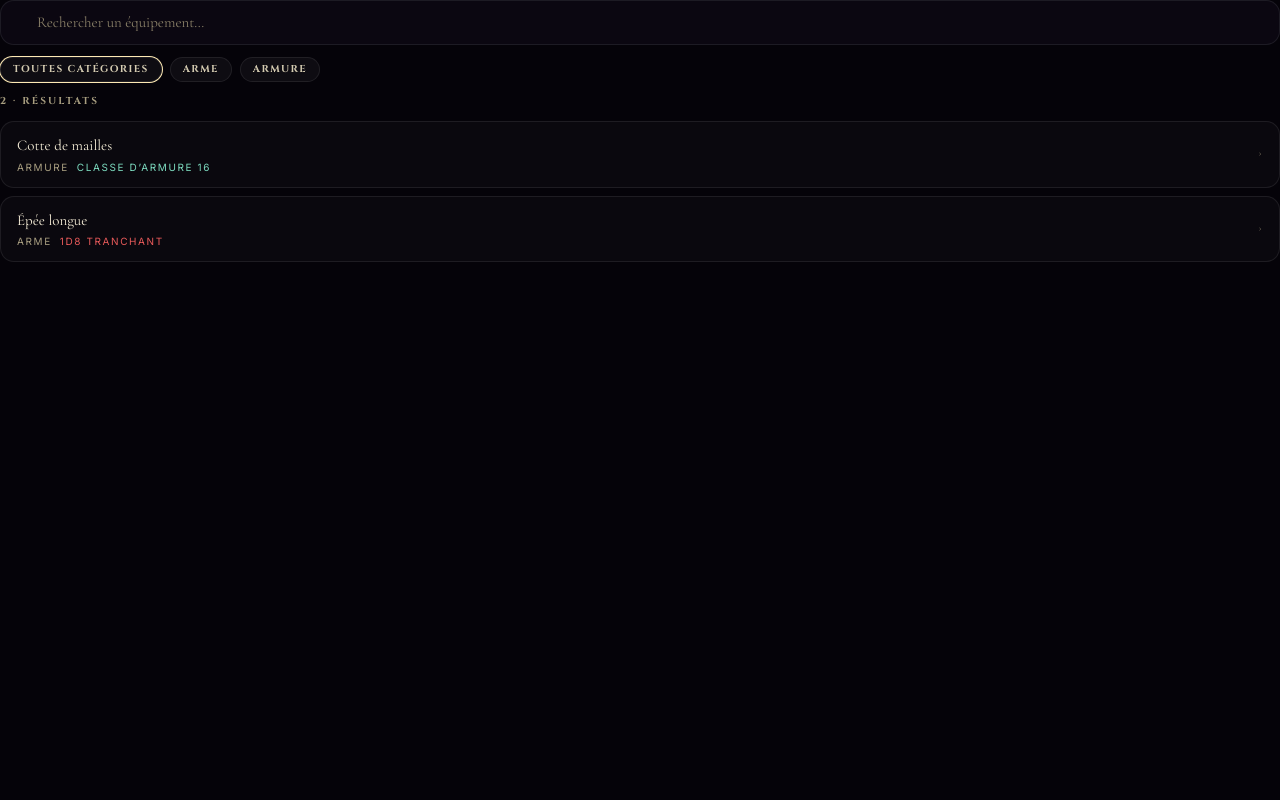
Test: ItemBrowser (Codex) › modale arme : dégâts + coût + poids chiffrés exacts
The width and height of the screenshot is (1280, 800).
Click the text "Épée longue" at (52, 220), box [17,210,87,228]
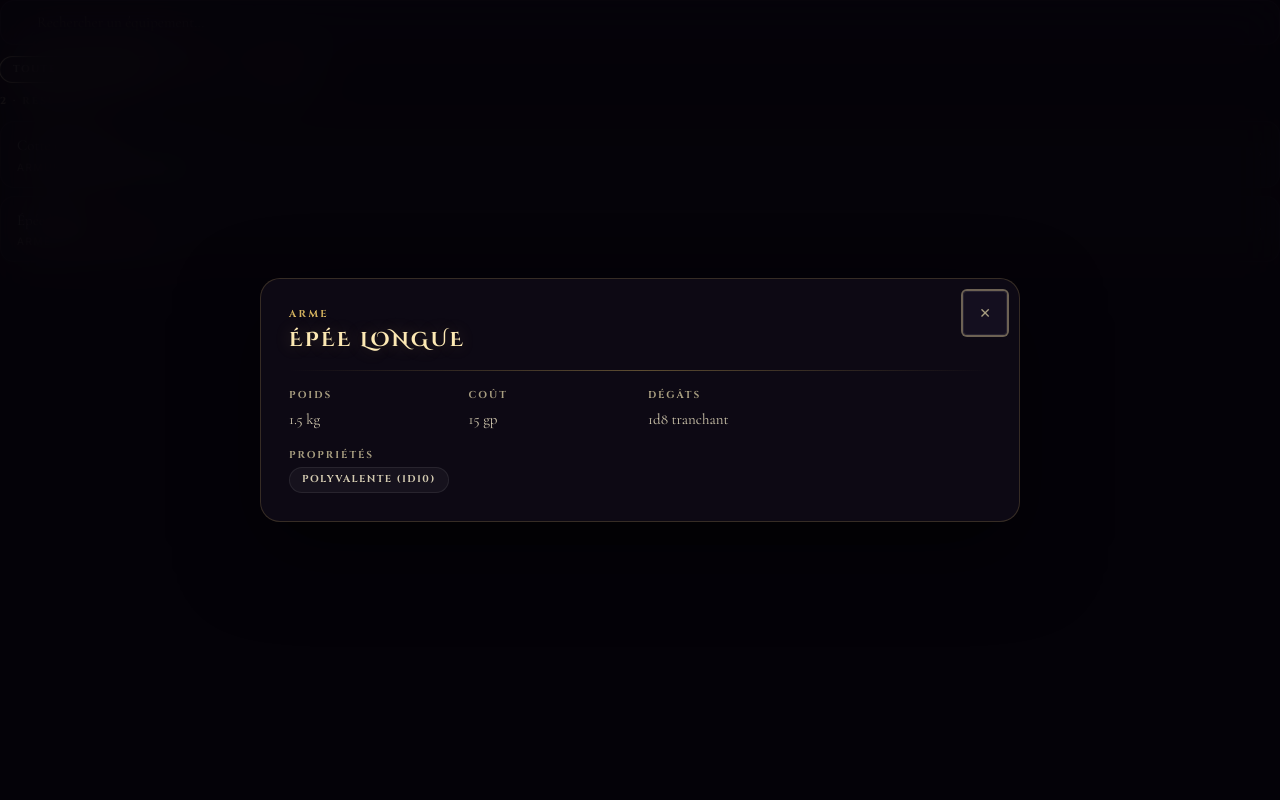
Now the text "1d8 tranchant" is shown, box [648,410,729,428]
Now the text "15 gp" is shown, box [468,410,498,428]
Now the text "1.5 kg" is shown, box [289,410,320,428]
